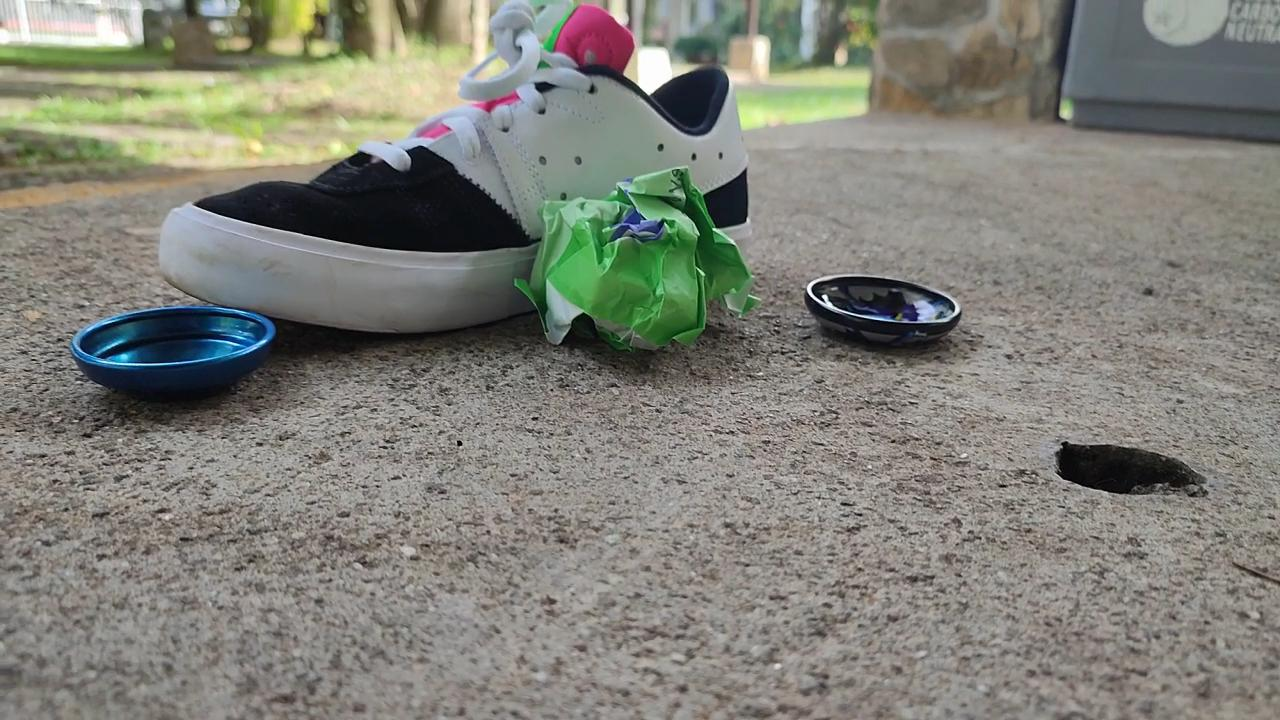Paper: (499, 156, 765, 361)
